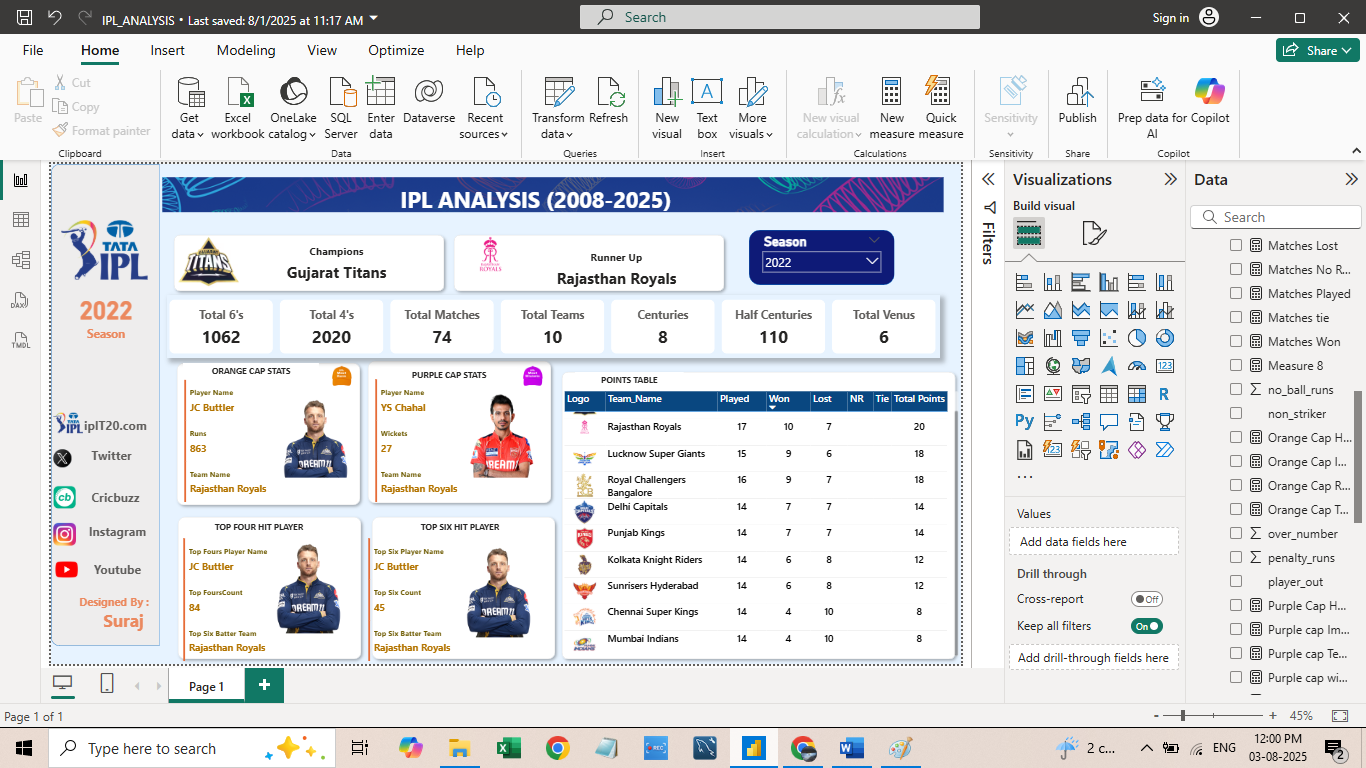

The dashboard page shown, as its layout file describes it:
{"tool":"powerbi","page":{"name":"Page 1","canvas":[2000,1100],"ordinal":0},"visuals":[{"type":"shape","box":[1535.4,144.4,320.2,120.7],"z":0},{"type":"shape","box":[1112.9,446.2,887.1,653.5],"z":1000},{"type":"shape","box":[266.2,426.8,424.6,334.4],"z":2000},{"type":"shape","box":[686.4,422.4,424.6,334.4],"z":3000},{"type":"shape","box":[875.6,145.2,616,145.2],"z":4000},{"type":"shape","box":[259.6,145.2,616,145.2],"z":5000},{"type":"image","box":[239.8,22,1729.2,90.2],"z":6000},{"type":"shape","box":[0,0,238.8,1060.4],"z":7000},{"type":"textbox","box":[741.4,39.6,651.2,88],"z":8000},{"type":"slicer","fields":{"Values":["ipl_matches_data.season"]},"box":[1556.4,147,280.8,118.1],"z":9000},{"type":"cardVisual","fields":{"Data":["ipl_matches_data.Season Winner"]},"box":[380.6,158.4,495,118.8],"z":10000},{"type":"cardVisual","fields":{"Data":["ipl_matches_data.Season Winner Logo"]},"box":[259.6,127.6,160.6,154],"z":11000},{"type":"cardVisual","fields":{"Data":["ipl_matches_data.Runner Up"]},"box":[996.6,171.6,495,118.8],"z":12000},{"type":"cardVisual","fields":{"Data":["ball_by_ball_data.Runnerup Logo"]},"box":[875.6,127.6,158.4,145.2],"z":13000},{"type":"cardVisual","fields":{"Data":["ball_by_ball_data.Total 6's","ball_by_ball_data.Total 4's","ball_by_ball_data.Total Matches","ball_by_ball_data.Total Teams","ball_by_ball_data.Centuries","ball_by_ball_data.Half Centuries","ball_by_ball_data.Total Venus"]},"box":[254.6,288.7,1700.8,139.1],"z":14000},{"type":"cardVisual","fields":{"Data":["ball_by_ball_data.Orange Cap Holder","ball_by_ball_data.Orange Cap Runs","ball_by_ball_data.Orange Cap Team Name"]},"box":[288.2,468.6,341,281.6],"z":15000},{"type":"textbox","box":[290.4,437.8,299.2,37.4],"z":16000},{"type":"cardVisual","fields":{"Data":["ball_by_ball_data.Orange Cap Image"]},"box":[457.6,495,250.8,200.2],"z":17000},{"type":"image","box":[589.6,437.8,101.2,57.2],"z":18000},{"type":"shape","box":[268.4,765.6,424.6,334.4],"z":19000},{"type":"shape","box":[695.2,765.6,424.6,334.4],"z":20000},{"type":"cardVisual","fields":{"Data":["ball_by_ball_data.Purple Cap Holder","ball_by_ball_data.Purple cap wicket","ball_by_ball_data.Purple cap Team"]},"box":[708.4,468.6,341,281.6],"z":21000},{"type":"textbox","box":[726,446.6,299.2,37.4],"z":22000},{"type":"cardVisual","fields":{"Data":["ball_by_ball_data.Purple cap Image"]},"box":[871.2,484,250.8,211.2],"z":23000},{"type":"image","box":[1009.8,437.8,101.2,57.2],"z":24000},{"type":"cardVisual","fields":{"Data":["ball_by_ball_data.Top Fours Player Name","ball_by_ball_data.Top FoursCount","ball_by_ball_data.Top Fours Batter Team"]},"box":[286,818.4,244.2,281.6],"z":25000},{"type":"textbox","box":[308,781,299.2,37.4],"z":26000},{"type":"cardVisual","fields":{"Data":["ball_by_ball_data.Top Fours Player Image"]},"box":[442.2,809.6,250.8,246.4],"z":27000},{"type":"cardVisual","fields":{"Data":["ball_by_ball_data.Top Six Player Name","ball_by_ball_data.Top Six Count","ball_by_ball_data.Top Six Batter Team"]},"box":[693,818.4,244.2,281.6],"z":28000},{"type":"textbox","box":[750.2,781,299.2,37.4],"z":29000},{"type":"cardVisual","fields":{"Data":["ball_by_ball_data.Top Six Player Image"]},"box":[860.2,818.4,250.8,246.4],"z":30000},{"type":"tableEx","fields":{"Values":["teams_data.image_url","teams_data.team_name","ball_by_ball_data.Matches Played","ball_by_ball_data.Matches Won","ball_by_ball_data.Matches Lost","ball_by_ball_data.Matches No Result","ball_by_ball_data.Matches tie","ball_by_ball_data.Total Points"]},"box":[1123.4,496.1,876.6,593.2],"z":31000},{"type":"textbox","box":[1152.2,456.7,238.8,39.4],"z":32000},{"type":"image","box":[0,519.7,75,100],"z":33000},{"type":"card","fields":{"Values":["ball_by_ball_data.Season"]},"box":[47.2,265.1,149.6,136.5],"z":34000},{"type":"actionButton","box":[47.2,530.2,191.6,89.2],"z":35000},{"type":"image","box":[18.4,39.4,200,299.2],"z":36000},{"type":"image","box":[0,608.9,50,76.1],"z":37000},{"type":"actionButton","box":[36.7,595.8,191.6,89.2],"z":38000},{"type":"image","box":[0,695.5,60,75],"z":39000},{"type":"actionButton","box":[47.2,687.7,191.6,89.2],"z":40000},{"type":"image","box":[0,776.9,60.4,76.1],"z":41000},{"type":"actionButton","box":[49.9,763.8,191.6,89.2],"z":42000},{"type":"image","box":[5.2,853,60.4,76.1],"z":43000},{"type":"actionButton","box":[49.9,847.8,191.6,89.2],"z":44000},{"type":"textbox","box":[57.7,942.3,168,126],"z":45000}]}

Visuals, with their boxes on the page's 2000x1100 design canvas (x1, y1, x2, y2). These are canvas units, not pixel positions in the 1366x768 screenshot, which may show the page scaled, cropped or inside an application window:
shape: (left=1535, top=144, right=1856, bottom=265)
shape: (left=1113, top=446, right=2000, bottom=1100)
shape: (left=266, top=427, right=691, bottom=761)
shape: (left=686, top=422, right=1111, bottom=757)
shape: (left=876, top=145, right=1492, bottom=290)
shape: (left=260, top=145, right=876, bottom=290)
image: (left=240, top=22, right=1969, bottom=112)
shape: (left=0, top=0, right=239, bottom=1060)
textbox: (left=741, top=40, right=1393, bottom=128)
slicer - ipl_matches_data.season: (left=1556, top=147, right=1837, bottom=265)
cardVisual - ipl_matches_data.Season Winner: (left=381, top=158, right=876, bottom=277)
cardVisual - ipl_matches_data.Season Winner Logo: (left=260, top=128, right=420, bottom=282)
cardVisual - ipl_matches_data.Runner Up: (left=997, top=172, right=1492, bottom=290)
cardVisual - ball_by_ball_data.Runnerup Logo: (left=876, top=128, right=1034, bottom=273)
cardVisual - ball_by_ball_data.Total 6's x ball_by_ball_data.Total 4's: (left=255, top=289, right=1955, bottom=428)
cardVisual - ball_by_ball_data.Orange Cap Holder x ball_by_ball_data.Orange Cap Runs: (left=288, top=469, right=629, bottom=750)
textbox: (left=290, top=438, right=590, bottom=475)
cardVisual - ball_by_ball_data.Orange Cap Image: (left=458, top=495, right=708, bottom=695)
image: (left=590, top=438, right=691, bottom=495)
shape: (left=268, top=766, right=693, bottom=1100)
shape: (left=695, top=766, right=1120, bottom=1100)
cardVisual - ball_by_ball_data.Purple Cap Holder x ball_by_ball_data.Purple cap wicket: (left=708, top=469, right=1049, bottom=750)
textbox: (left=726, top=447, right=1025, bottom=484)
cardVisual - ball_by_ball_data.Purple cap Image: (left=871, top=484, right=1122, bottom=695)
image: (left=1010, top=438, right=1111, bottom=495)
cardVisual - ball_by_ball_data.Top Fours Player Name x ball_by_ball_data.Top FoursCount: (left=286, top=818, right=530, bottom=1100)
textbox: (left=308, top=781, right=607, bottom=818)
cardVisual - ball_by_ball_data.Top Fours Player Image: (left=442, top=810, right=693, bottom=1056)
cardVisual - ball_by_ball_data.Top Six Player Name x ball_by_ball_data.Top Six Count: (left=693, top=818, right=937, bottom=1100)
textbox: (left=750, top=781, right=1049, bottom=818)
cardVisual - ball_by_ball_data.Top Six Player Image: (left=860, top=818, right=1111, bottom=1065)
tableEx - teams_data.image_url x teams_data.team_name: (left=1123, top=496, right=2000, bottom=1089)
textbox: (left=1152, top=457, right=1391, bottom=496)
image: (left=0, top=520, right=75, bottom=620)
card - ball_by_ball_data.Season: (left=47, top=265, right=197, bottom=402)
actionButton: (left=47, top=530, right=239, bottom=619)
image: (left=18, top=39, right=218, bottom=339)
image: (left=0, top=609, right=50, bottom=685)
actionButton: (left=37, top=596, right=228, bottom=685)
image: (left=0, top=696, right=60, bottom=770)
actionButton: (left=47, top=688, right=239, bottom=777)
image: (left=0, top=777, right=60, bottom=853)
actionButton: (left=50, top=764, right=242, bottom=853)
image: (left=5, top=853, right=66, bottom=929)
actionButton: (left=50, top=848, right=242, bottom=937)
textbox: (left=58, top=942, right=226, bottom=1068)
